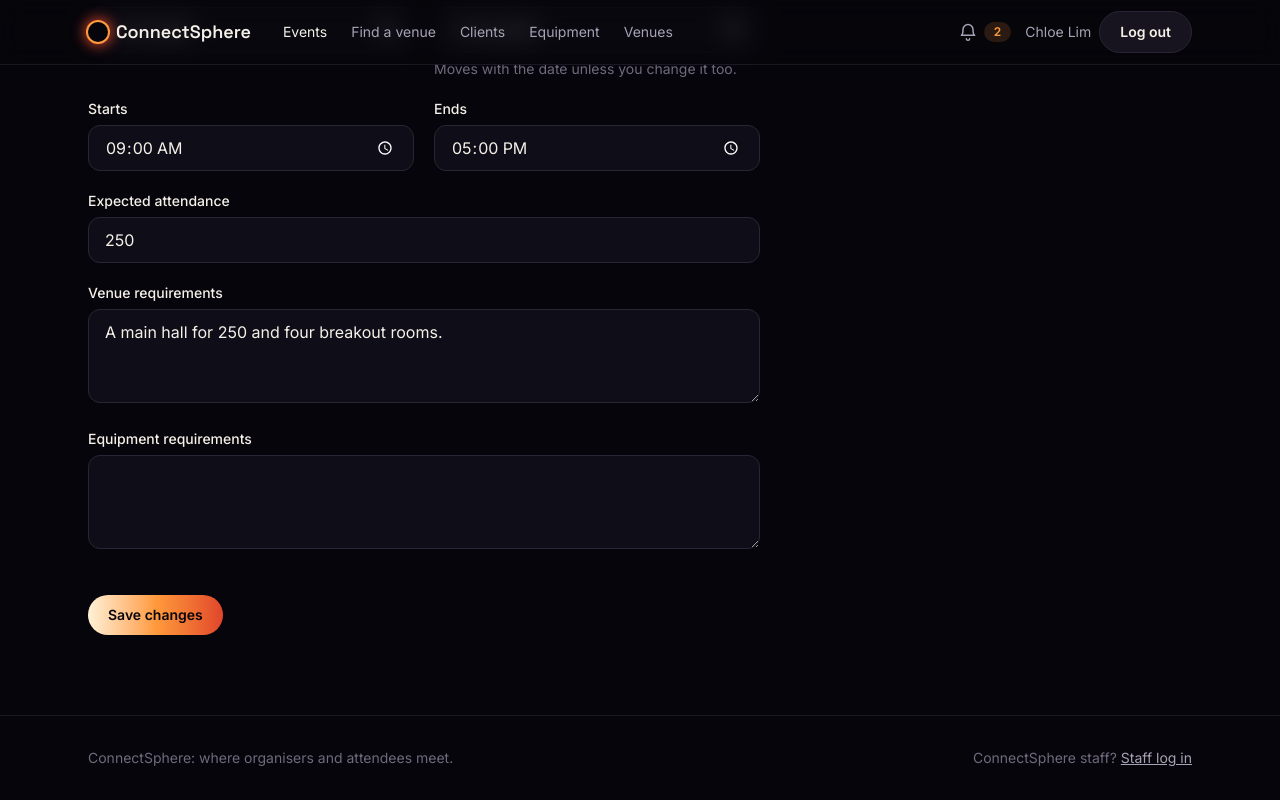
Test: SCRUM-33 AC2 a significant change › says so when nothing was changed
This screenshot has width=1280, height=800.
(page scrolled)
Step 1. Click the button "Save changes" → {"x": 155, "y": 615}, box [88,595,223,635]
(page scrolled)
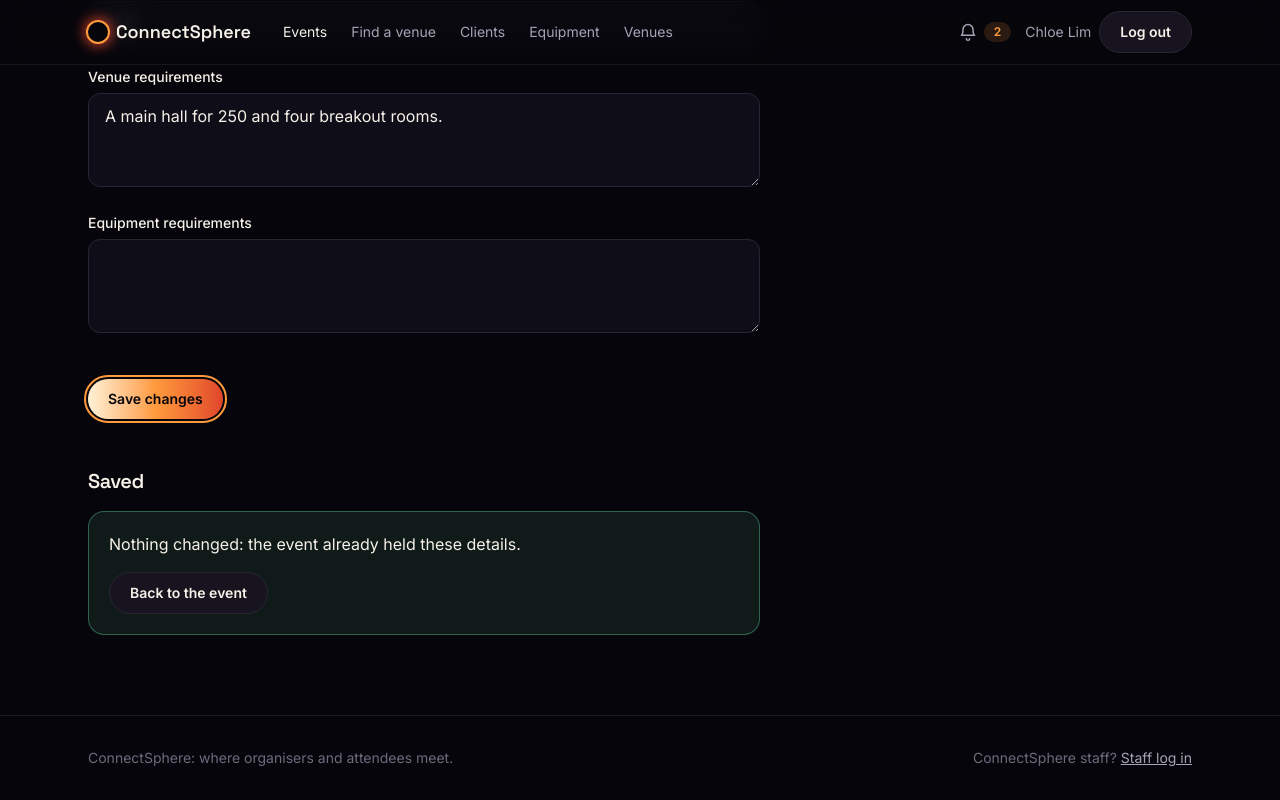
Expected: the element "Saved" shows "Nothing changed: the event already held these details.", [109,534,521,554]
